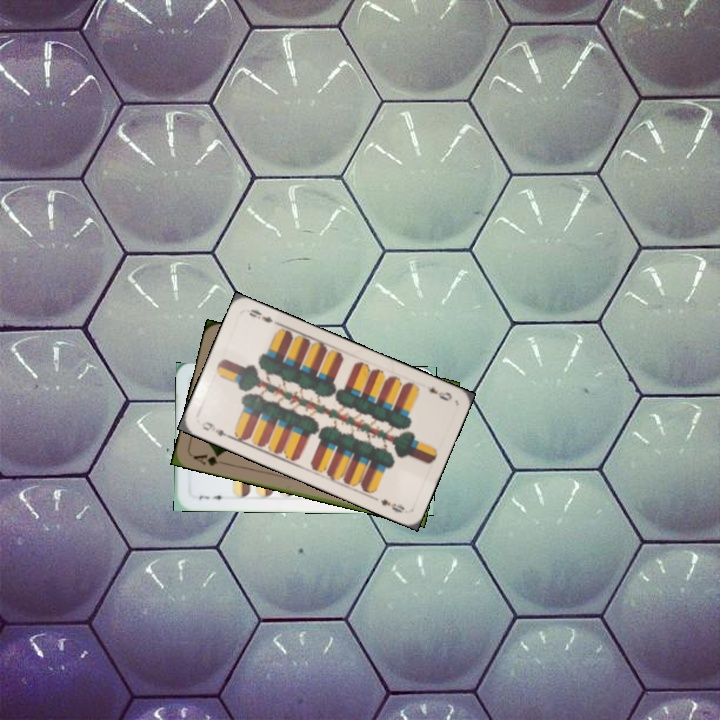E7: (195, 491, 229, 502)
E9: (198, 417, 234, 441), (423, 382, 455, 404)
GA: (189, 450, 229, 469)
